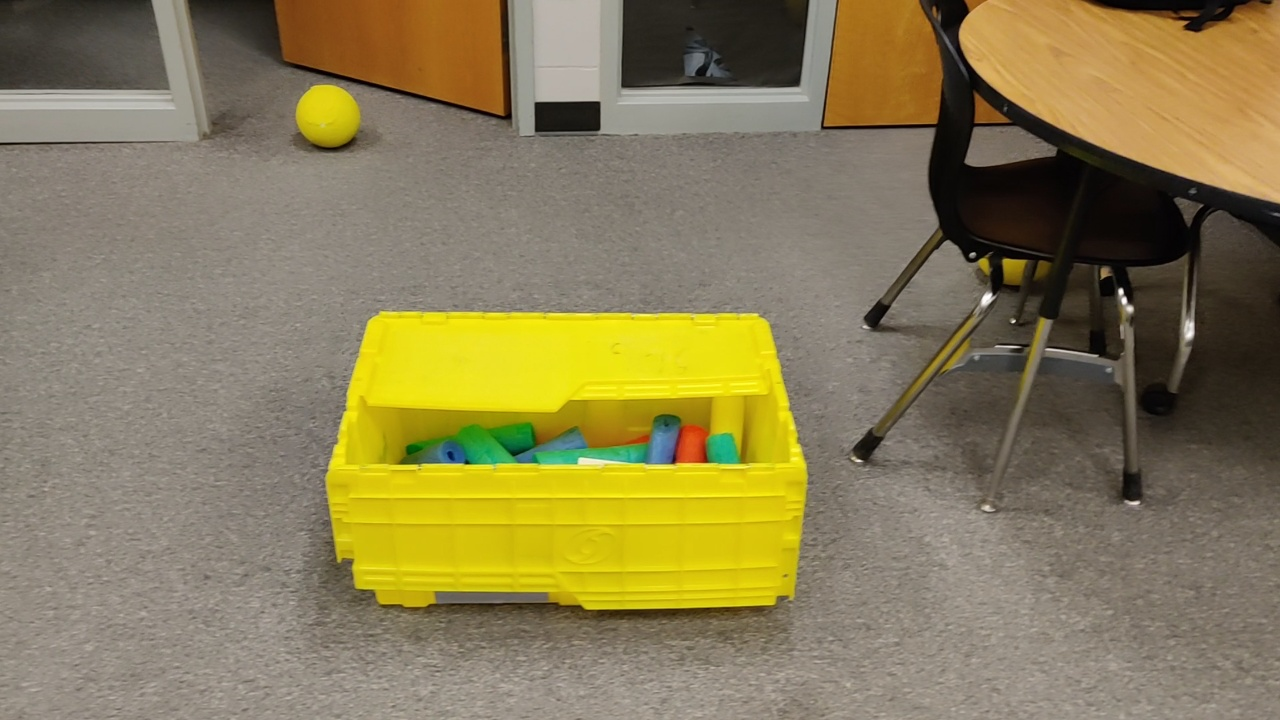Ball: (295, 83, 359, 149)
